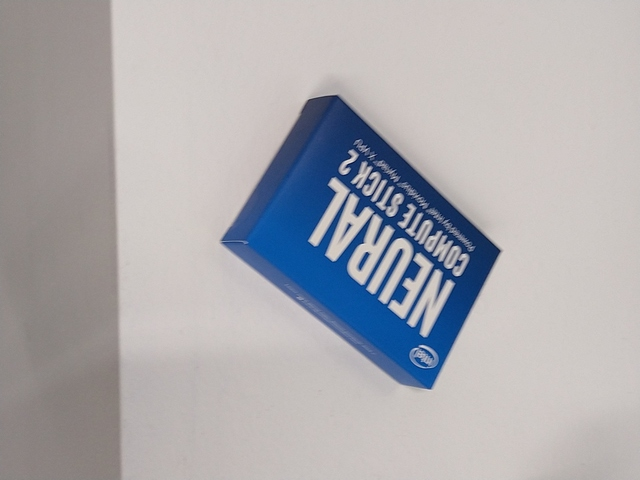box: (218, 93, 502, 392)
